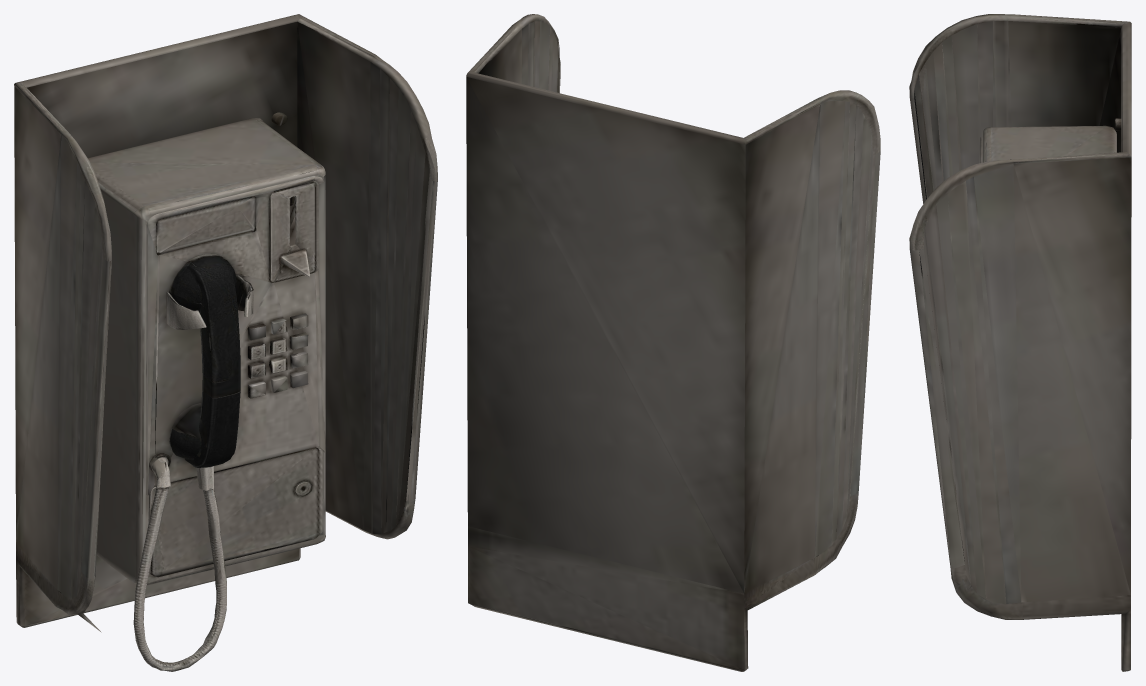
File: p7-payphone-t25.glb
The picture shows the model from 3 angles, left to right: view 1: azimuth 30°, elevation 25°; view 2: azimuth 150°, elevation 25°; view 3: azimuth 270°, elevation 25°; orthographic projection. The views are drawn at different scales.
Visible parts, largest first — view 1: p7-payphone-t25; view 2: p7-payphone-t25; view 3: p7-payphone-t25.
Part boxes in pixels (x1=…): p7-payphone-t25: x1=14, y1=14, x2=437, y2=671; p7-payphone-t25: x1=466, y1=14, x2=880, y2=671; p7-payphone-t25: x1=909, y1=14, x2=1131, y2=671.
Bounding box in the file's own units: 0.671 × 1.05 × 0.406.
1 material, 1 textured.
